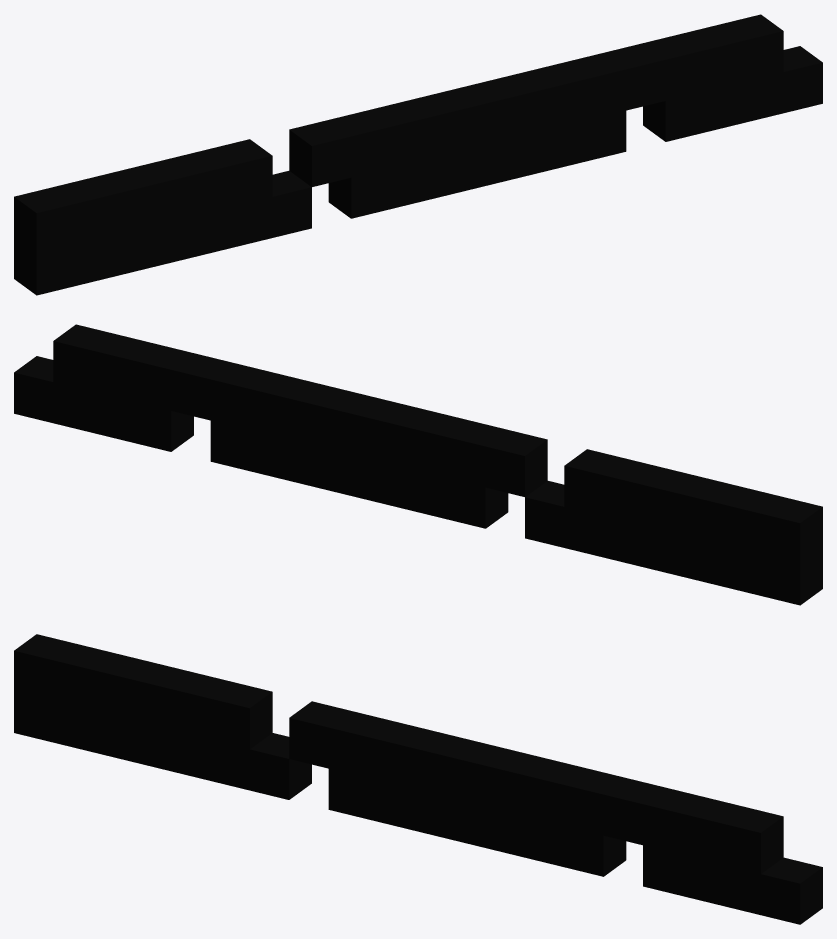
File: Gauge_ZombieSkinRottent_Thin_Full.002.fbx
The picture shows the model from 3 angles, top to bottom: view 1: azimuth 30°, elevation 25°; view 2: azimuth 150°, elevation 25°; view 3: azimuth 330°, elevation 25°; orthographic projection.
Visible parts, largest first — view 1: Gauge_ZombieSkinRottent_Thin_Full.002; view 2: Gauge_ZombieSkinRottent_Thin_Full.002; view 3: Gauge_ZombieSkinRottent_Thin_Full.002.
Boxes of the visible parts, left/top/right/bottom form: Gauge_ZombieSkinRottent_Thin_Full.002: left=14, top=14, right=822, bottom=295; Gauge_ZombieSkinRottent_Thin_Full.002: left=14, top=324, right=822, bottom=605; Gauge_ZombieSkinRottent_Thin_Full.002: left=14, top=634, right=822, bottom=924.
Size of the model in its own units: 2 by 0.2 by 0.1.
